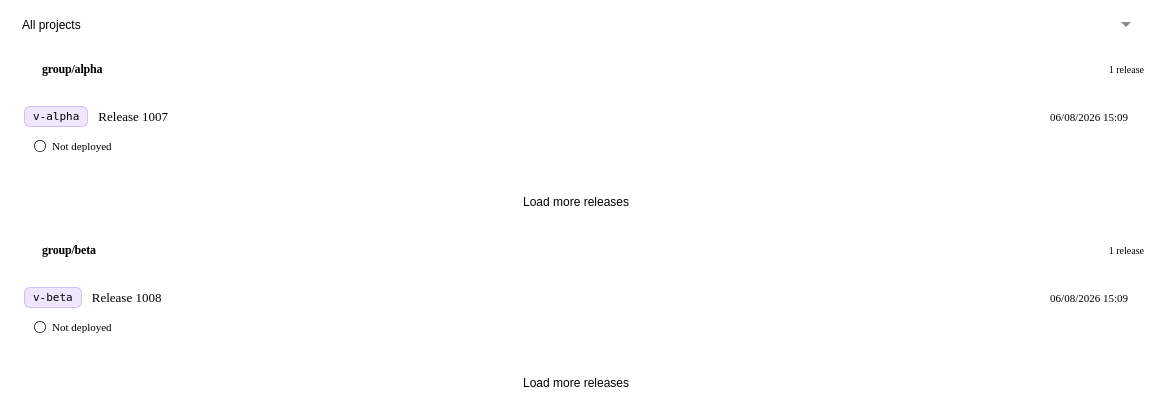
it: POView › narrows sections to the selected project when the filter changes
This screenshot has width=1152, height=404.
Expected: the text "v-alpha" is shown, left=24, top=106, right=88, bottom=127
Expected: the text "group/beta" is shown, left=42, top=242, right=96, bottom=258
Select "group/alpha" in the dropdown at coordinates (576, 25), box left=8, top=8, right=1144, bottom=42
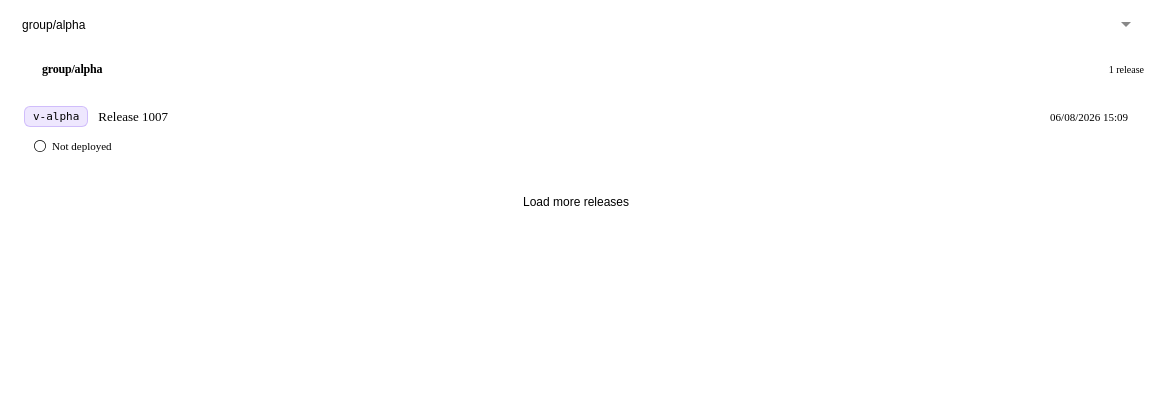
Expected: the text "group/alpha" is shown, left=42, top=62, right=102, bottom=76
Expected: the text "group/beta" is gone
